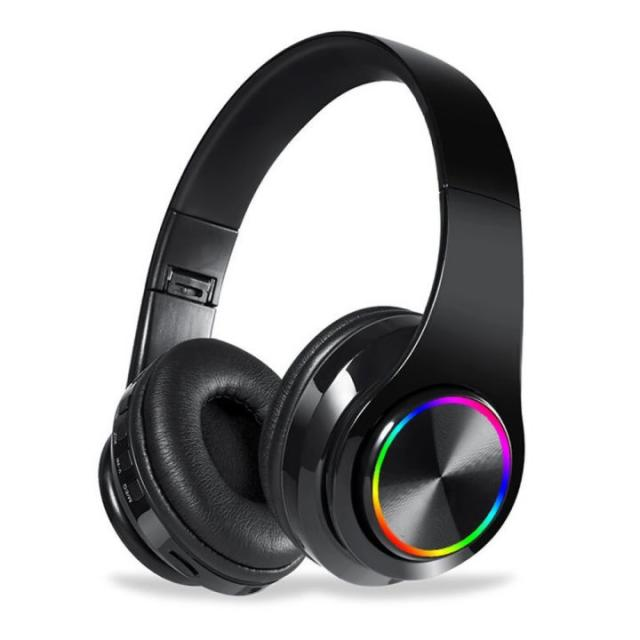headset: (124, 46, 546, 591)
